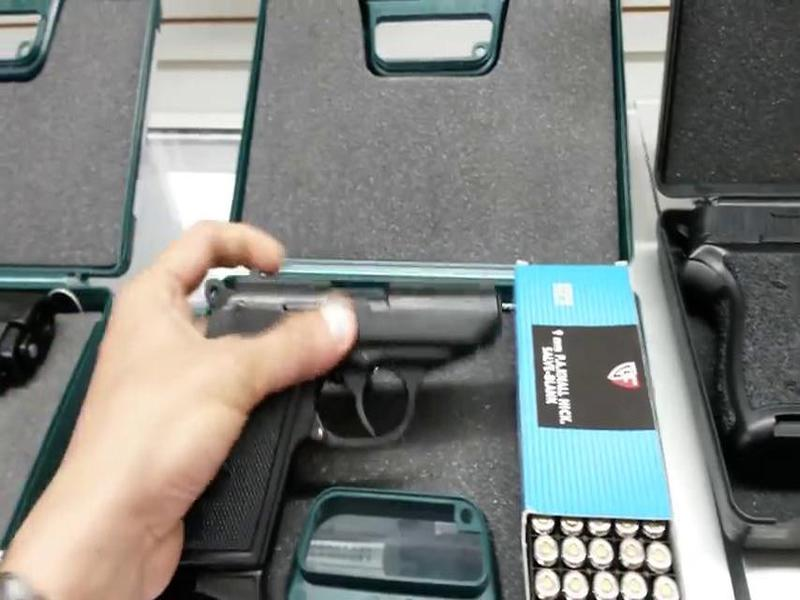Pistola: (153, 249, 544, 573)
